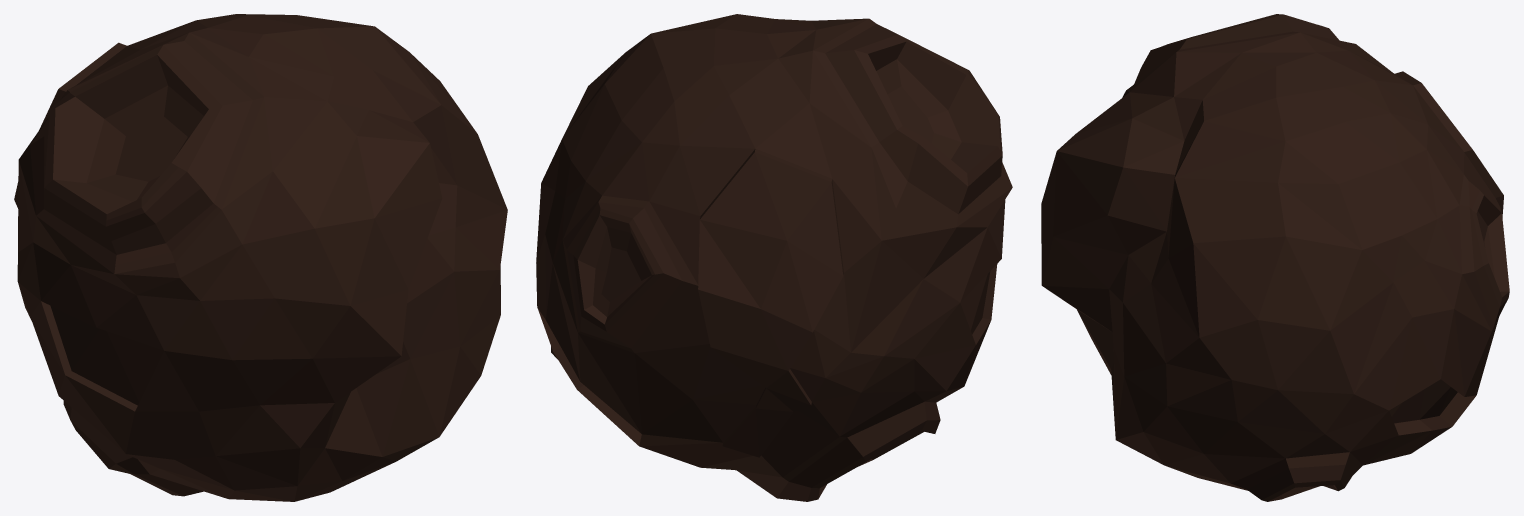
Rendered from meteorite.649681aa.gltf.
3 renders of one model, left to right at view 1: azimuth 30°, elevation 25°; view 2: azimuth 150°, elevation 25°; view 3: azimuth 270°, elevation 25°, orthographic. The views are drawn at different scales.
Visible parts, largest first — view 1: Икосфера; view 2: Икосфера; view 3: Икосфера.
Boxes of the visible parts, x1,y1,x2,y2 form: Икосфера: [14, 14, 507, 501]; Икосфера: [536, 14, 1012, 501]; Икосфера: [1041, 14, 1509, 501].
Bounding box in the file's own units: 2 × 2.02 × 2.04.
